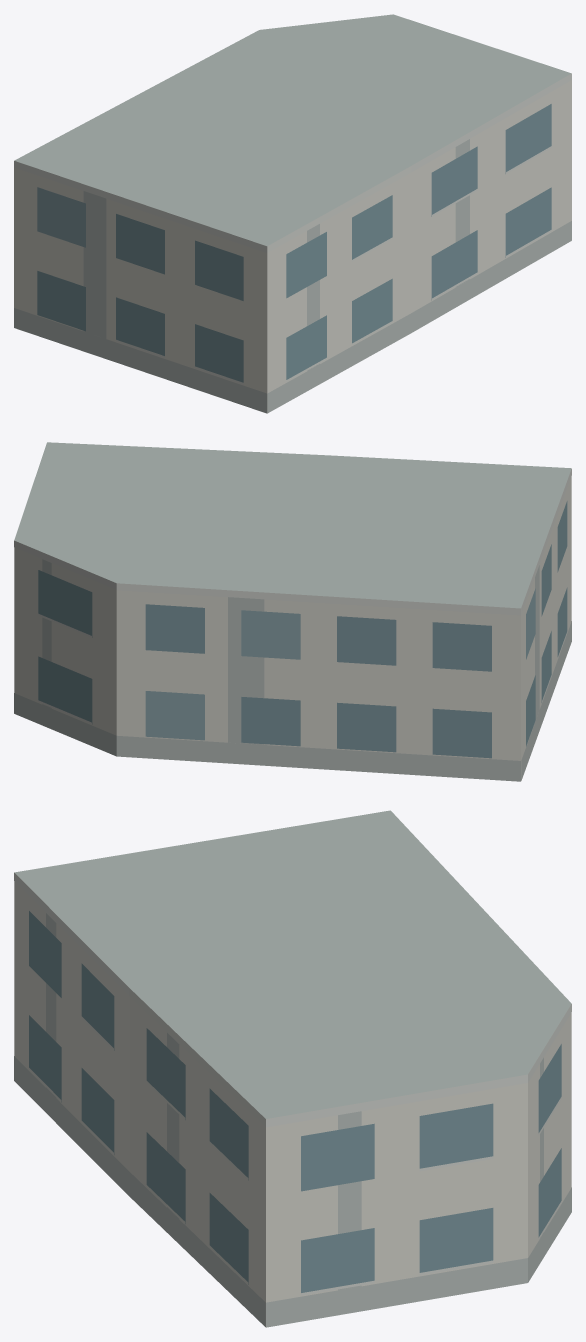
Rendered from survey-upis-32700363.glb.
3 views of the same model, one above another, from view 1: azimuth 30°, elevation 25°; view 2: azimuth 150°, elevation 25°; view 3: azimuth 270°, elevation 25° (orthographic). The views are drawn at different scales.
Visible parts, largest first — view 1: survey-upis-32700363.tmp; view 2: survey-upis-32700363.tmp; view 3: survey-upis-32700363.tmp.
Boxes of the visible parts, <box> form: survey-upis-32700363.tmp: <box>14,14,571,413</box>; survey-upis-32700363.tmp: <box>14,442,571,781</box>; survey-upis-32700363.tmp: <box>14,810,571,1327</box>.
Bounding box in the file's own units: 19.39 × 6.1 × 14.8.
